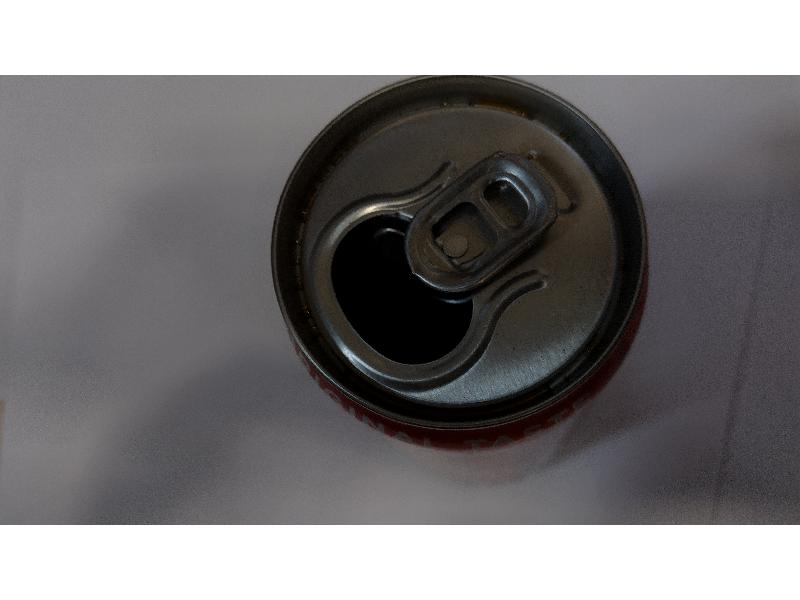can: (262, 71, 650, 425)
